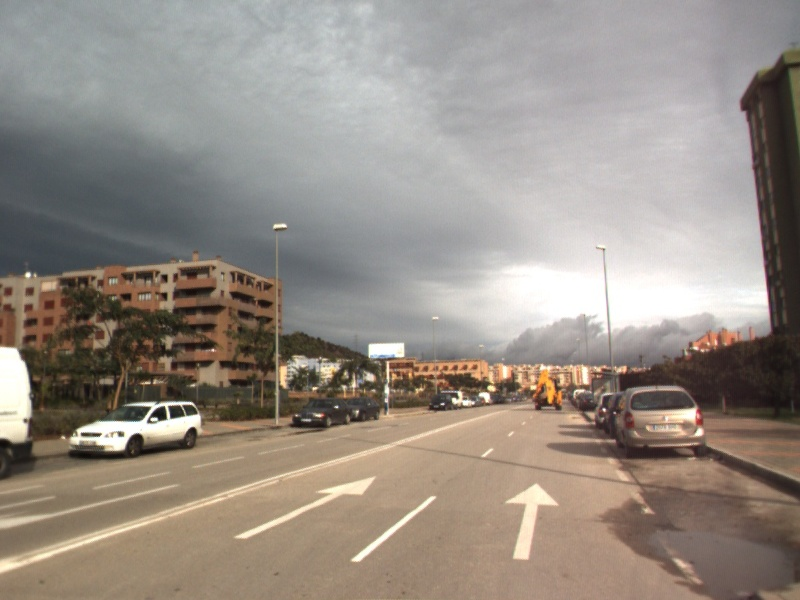STRAIGHT: (231, 471, 380, 541), (503, 481, 561, 562)
